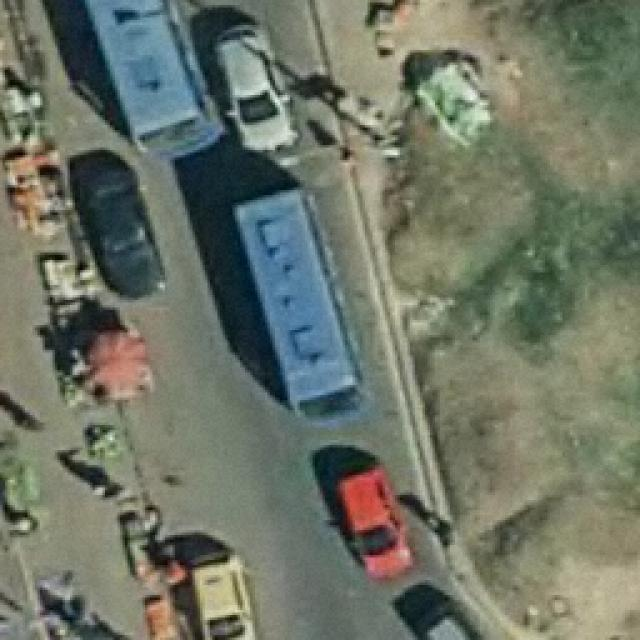vendedor_ambulante: (80, 324, 156, 404)
